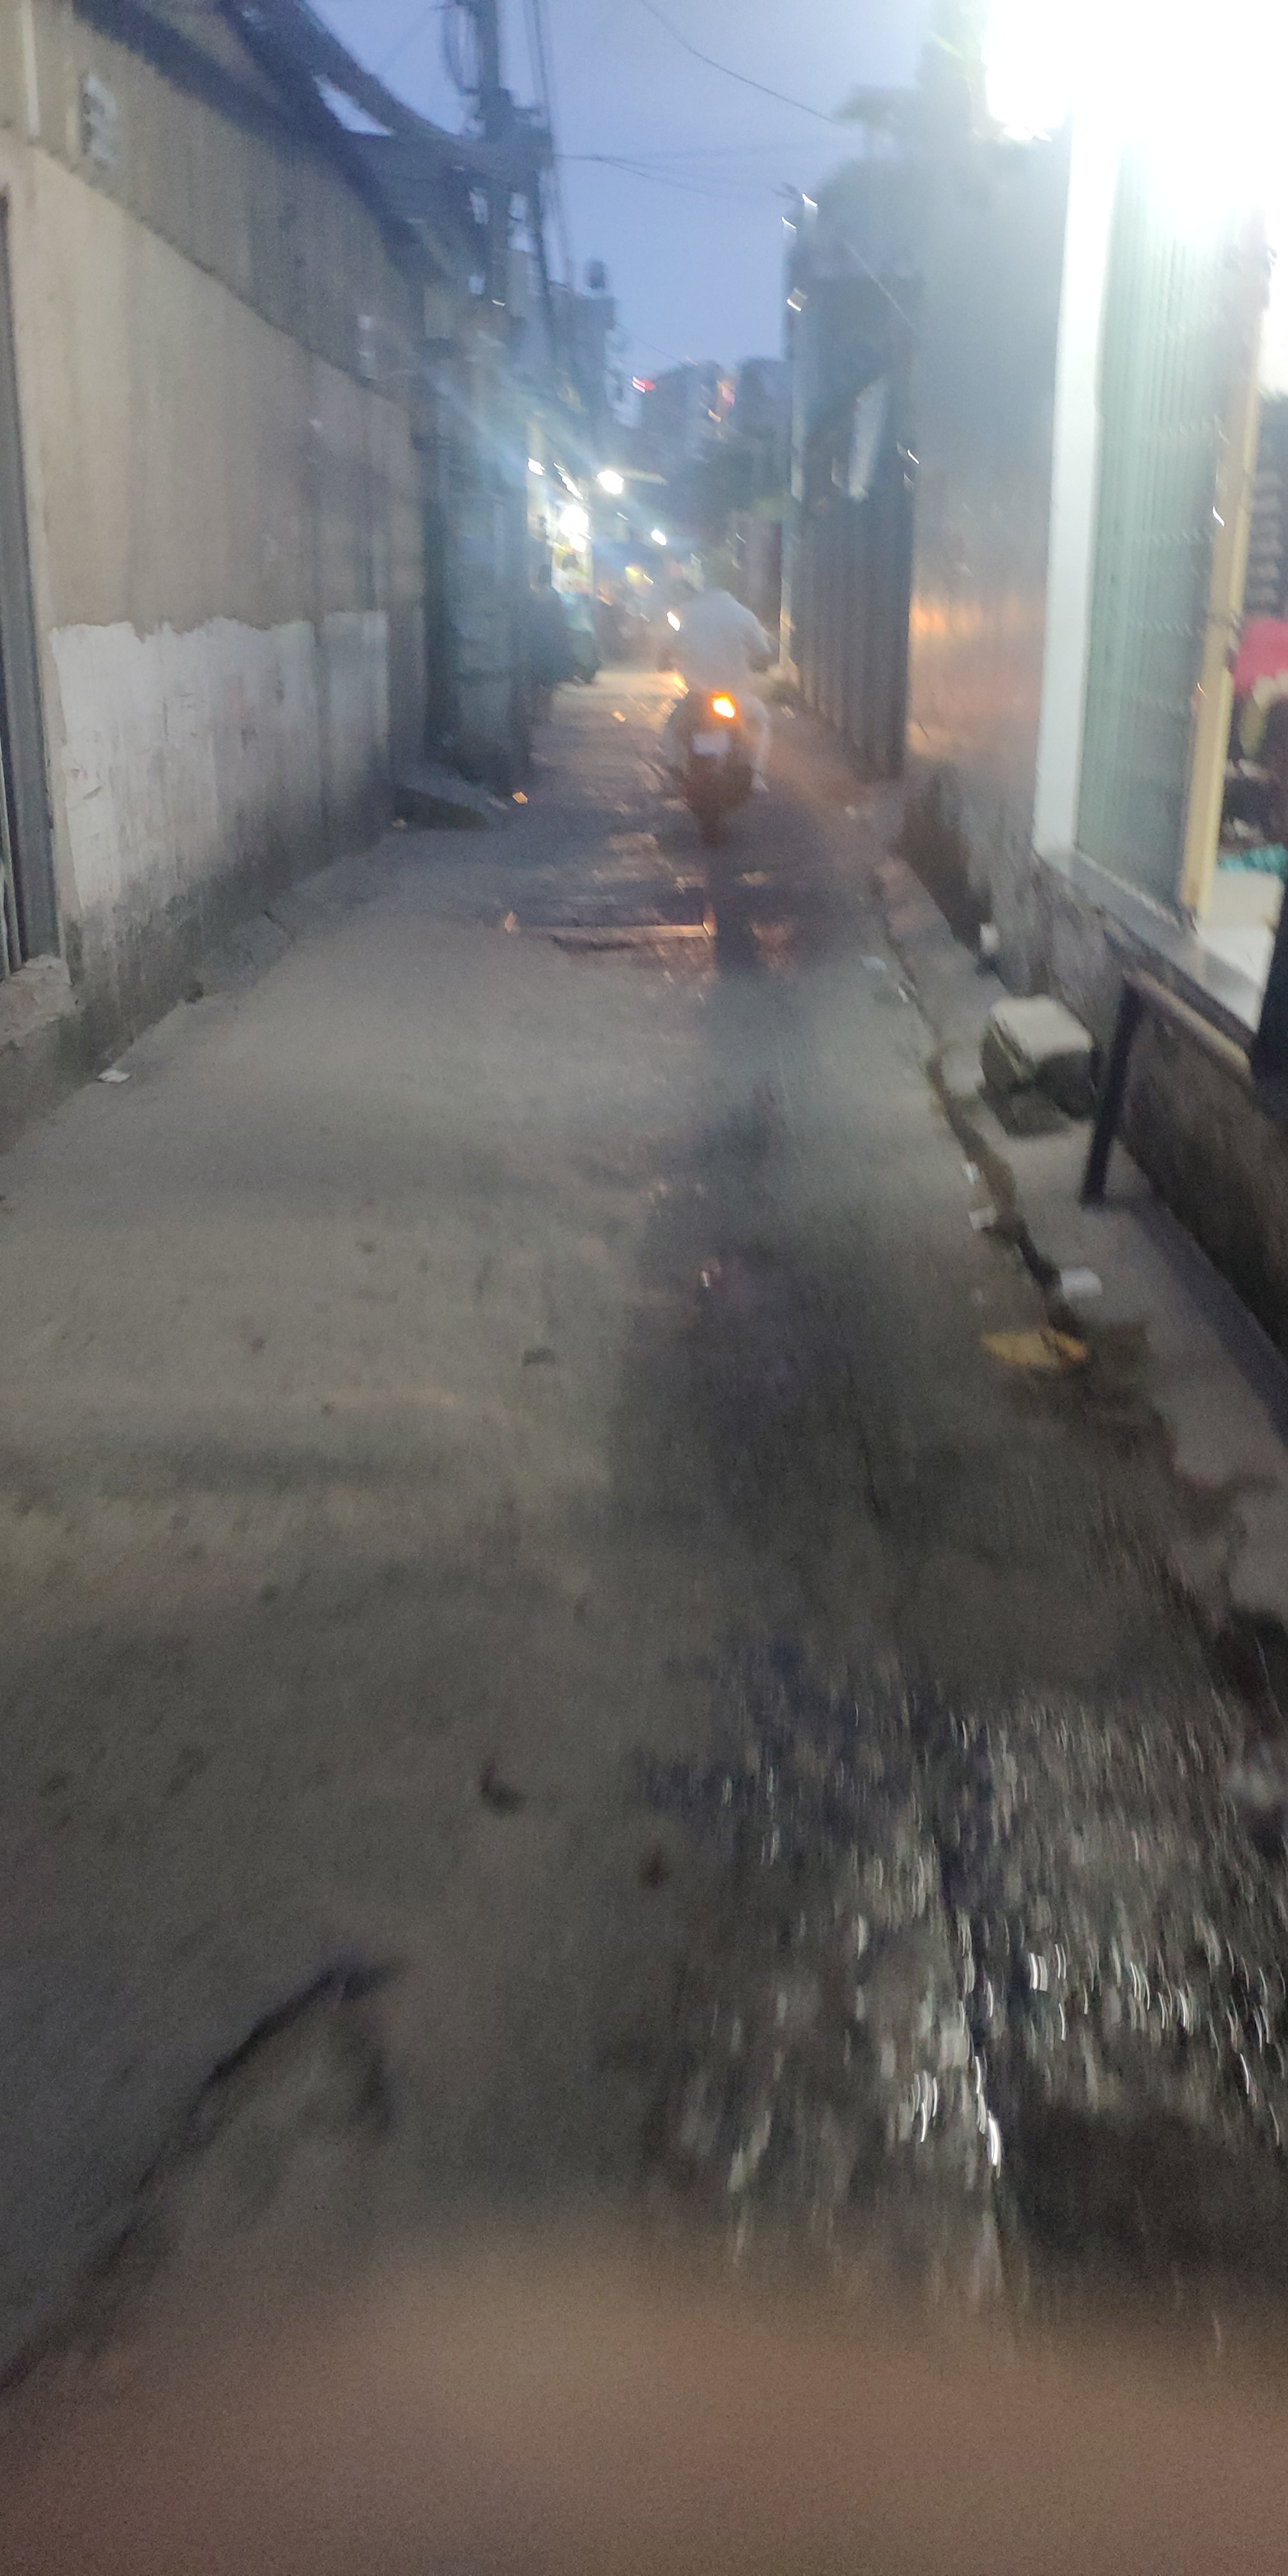hole: (117, 1927, 460, 2190)
